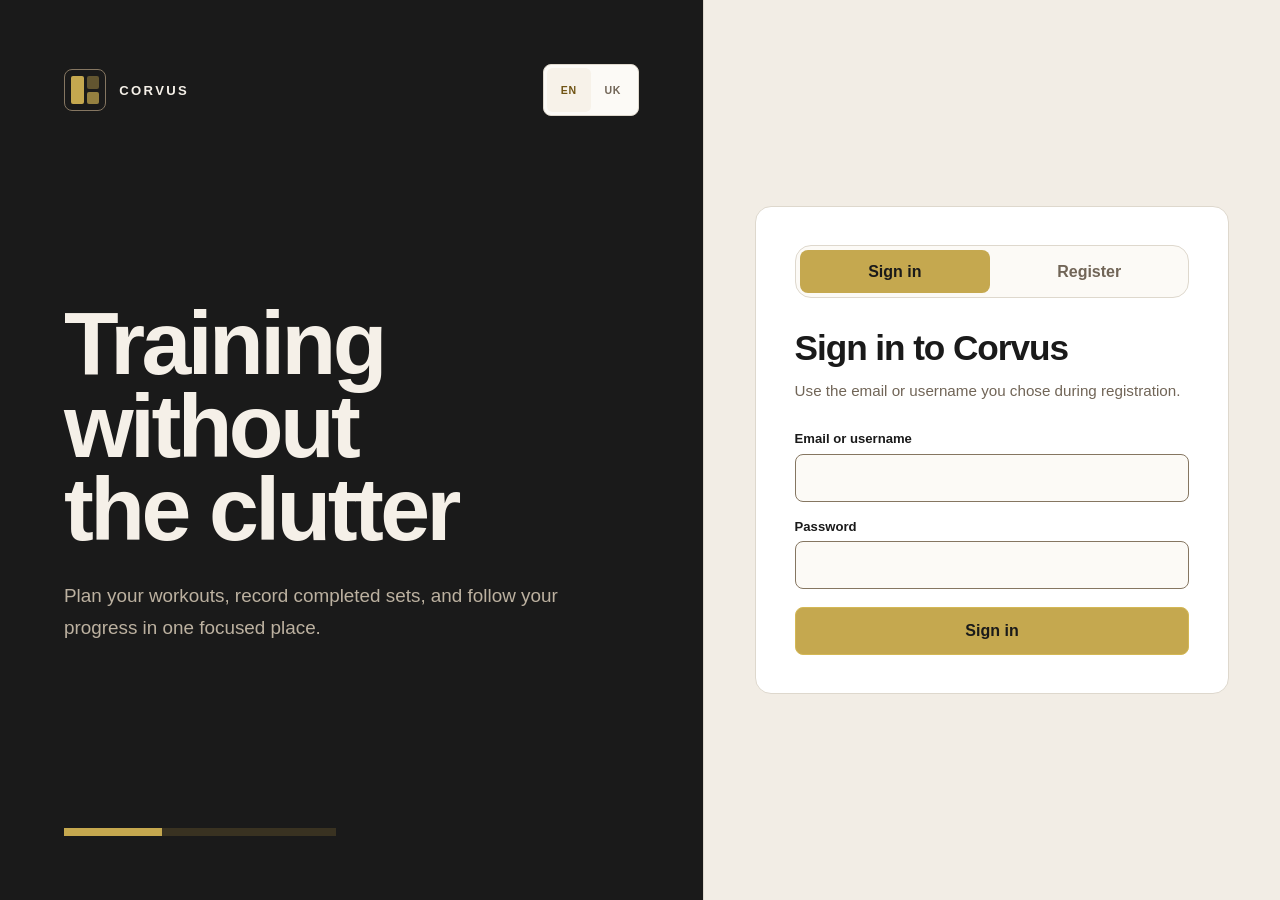
it: authentication flow › switches to Ukrainian and remembers the selected language
Click the button with aria-label "Ukrainian". click: (613,90)
box: [591, 68, 635, 112]
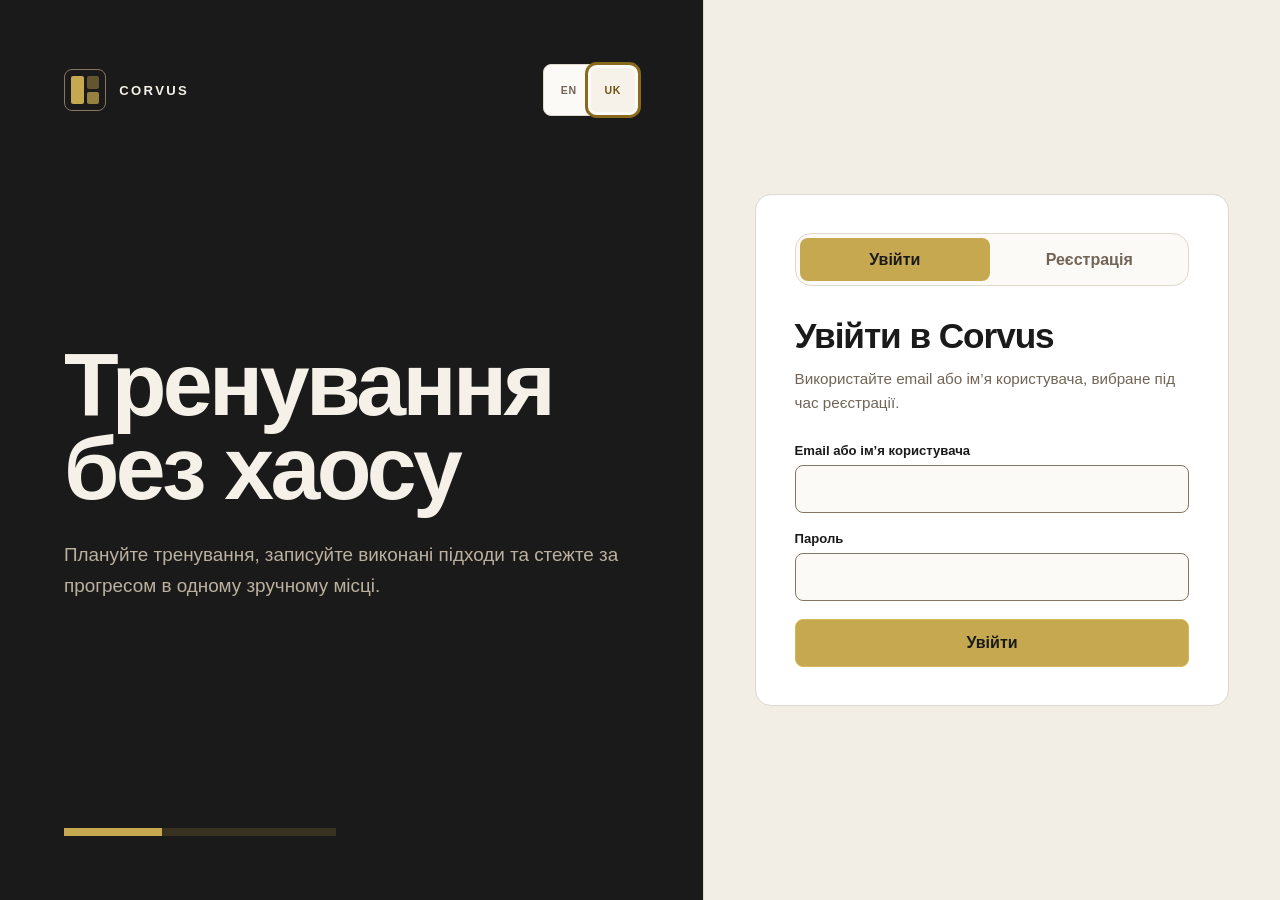
Expected: the heading "Тренування без хаосу" is shown, [64, 343, 562, 510]
